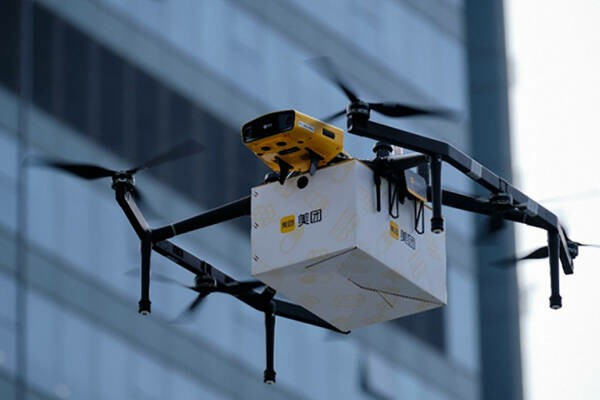maybay_khongnguoilai: (55, 69, 576, 360)
